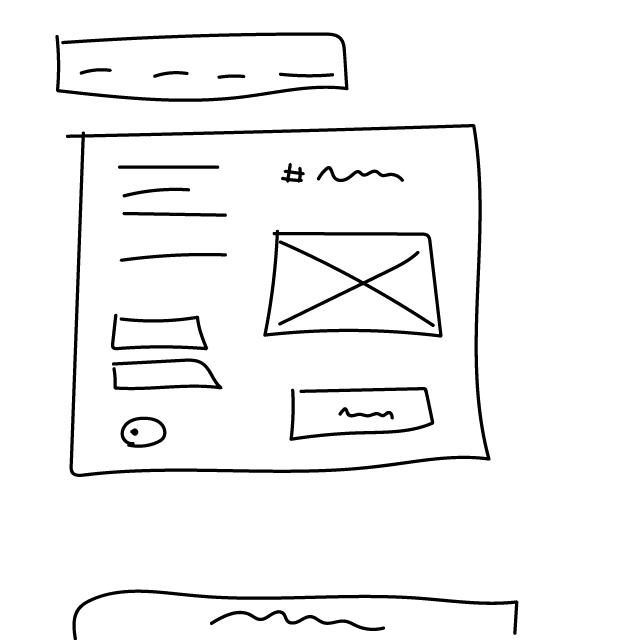button: (287, 380, 438, 443)
checkbox: (119, 415, 172, 452)
container: (54, 119, 534, 508)
footer: (62, 581, 527, 640)
frame: (263, 225, 448, 346)
heading: (275, 160, 411, 190)
input: (108, 310, 212, 355), (109, 357, 228, 393)
nav: (48, 31, 355, 109)
text: (111, 158, 239, 270)
